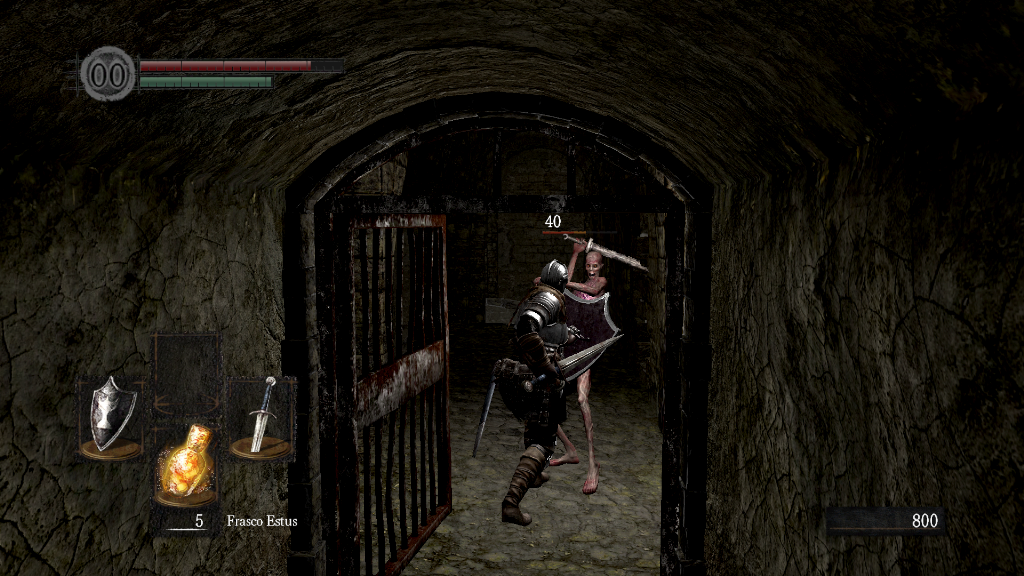health: (138, 58, 343, 71)
hollow: (550, 251, 606, 495)
humanity: (80, 45, 136, 102)
player: (472, 257, 622, 528)
souls: (825, 506, 945, 536)
stamina: (138, 74, 274, 88)
